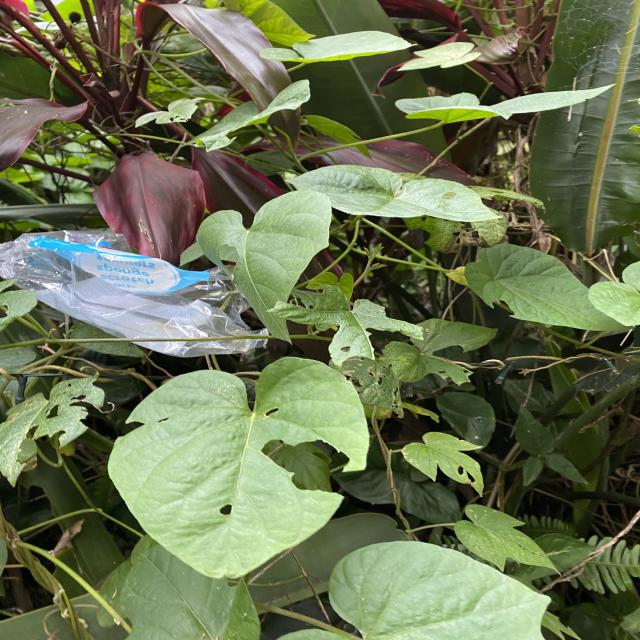wrappers: (0, 229, 268, 357)
